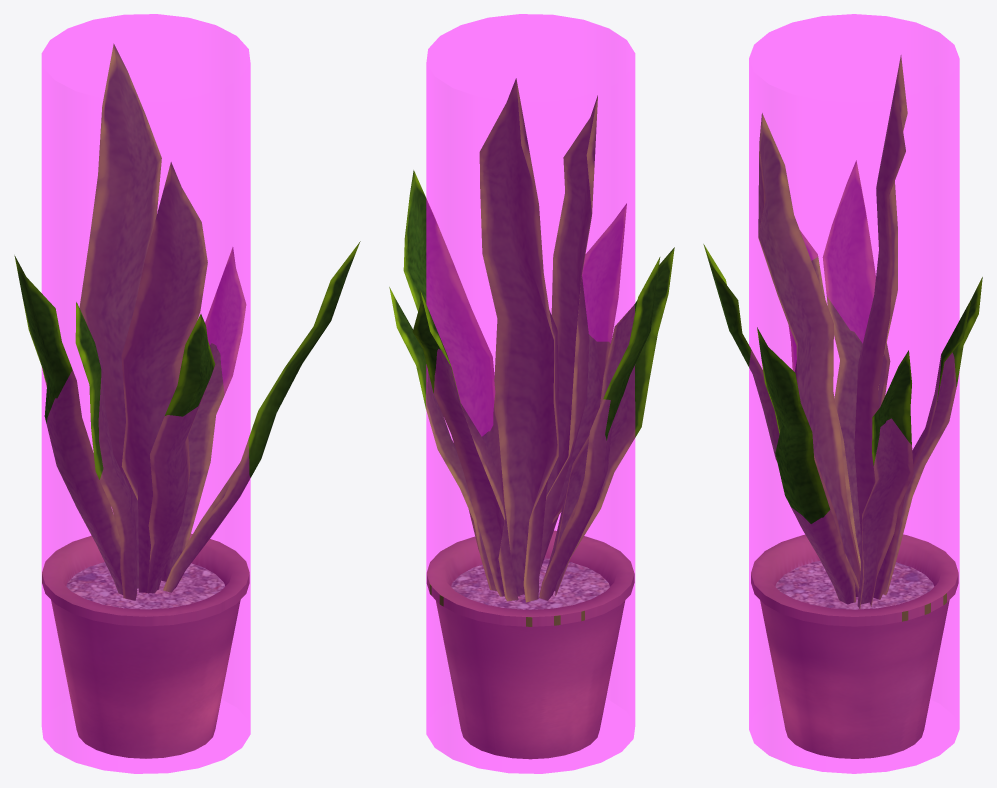
Rendered from plant_B.fbx.
The picture shows the model from 3 angles, left to right: view 1: azimuth 30°, elevation 25°; view 2: azimuth 150°, elevation 25°; view 3: azimuth 270°, elevation 25°; orthographic projection.
Visible parts, largest first — view 1: plant_B_boundingBox, plant_B; view 2: plant_B_boundingBox, plant_B; view 3: plant_B_boundingBox, plant_B.
Boxes of the visible parts, left/top/right/bottom form: plant_B_boundingBox: left=41, top=14, right=250, bottom=773; plant_B: left=14, top=43, right=360, bottom=758; plant_B_boundingBox: left=426, top=14, right=635, bottom=773; plant_B: left=389, top=78, right=674, bottom=759; plant_B_boundingBox: left=749, top=14, right=959, bottom=773; plant_B: left=703, top=55, right=982, bottom=758.
Bounding box in the file's own units: 0.5215 × 1.13 × 0.4262.
2 materials, 1 textured.
